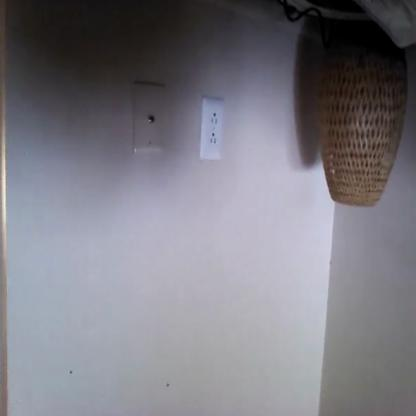OUTLET: (200, 99, 224, 158)
